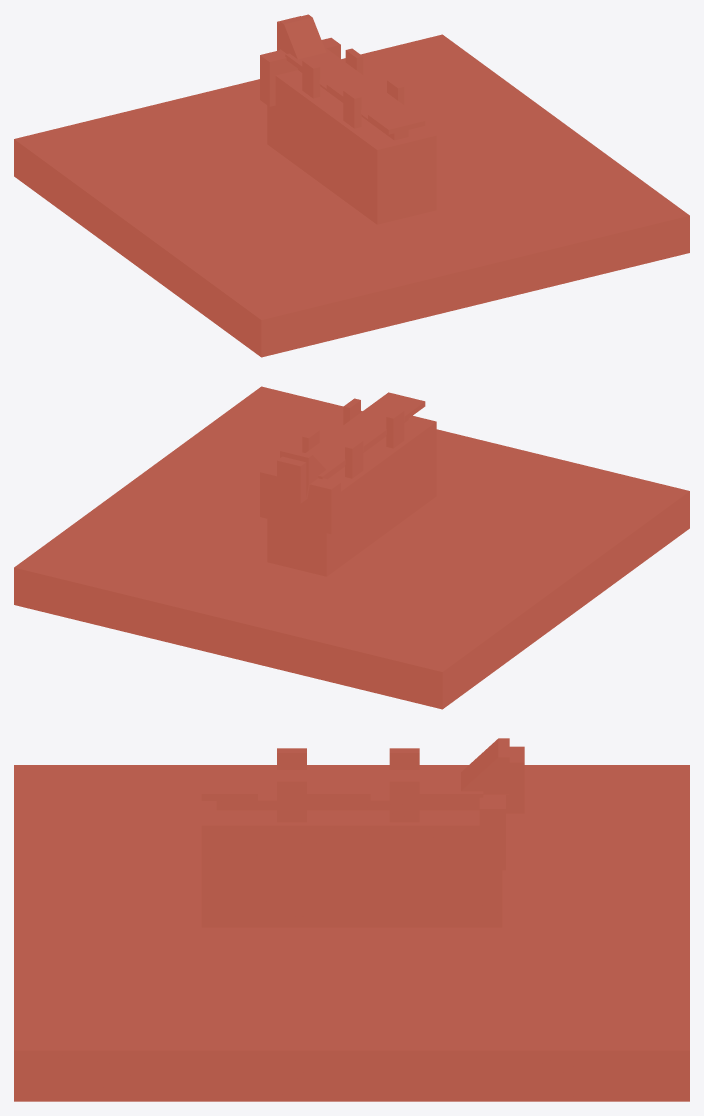
File: Pallet.glb
The picture shows the model from 3 angles, top to bottom: view 1: azimuth 30°, elevation 25°; view 2: azimuth 150°, elevation 25°; view 3: azimuth 270°, elevation 25°; orthographic projection. The views are drawn at different scales.
Visible parts, largest first — view 1: Pallet; view 2: Pallet; view 3: Pallet.
Part boxes in pixels (x1,y1,x2,y2): Pallet: (14,14,689,357); Pallet: (14,386,689,709); Pallet: (14,738,689,1101).
Size of the model in its own units: 0.18 by 0.062 by 0.18.
Materials: 1 (1 with a texture image).
